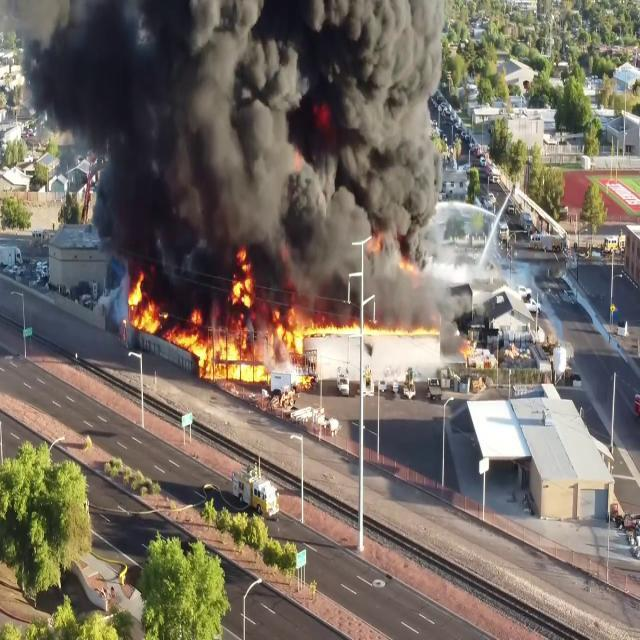Fire: (178, 265, 306, 389), (304, 314, 441, 341), (116, 262, 164, 336)
Smoke: (7, 0, 447, 267)
